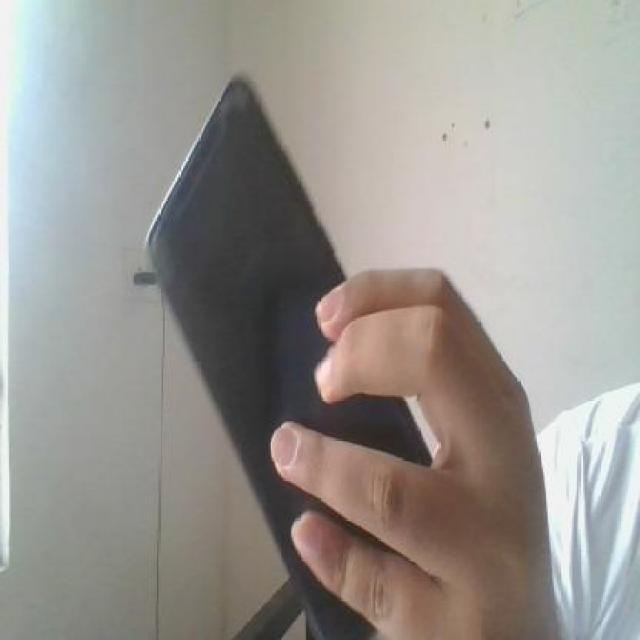Phone: (141, 63, 432, 640)
